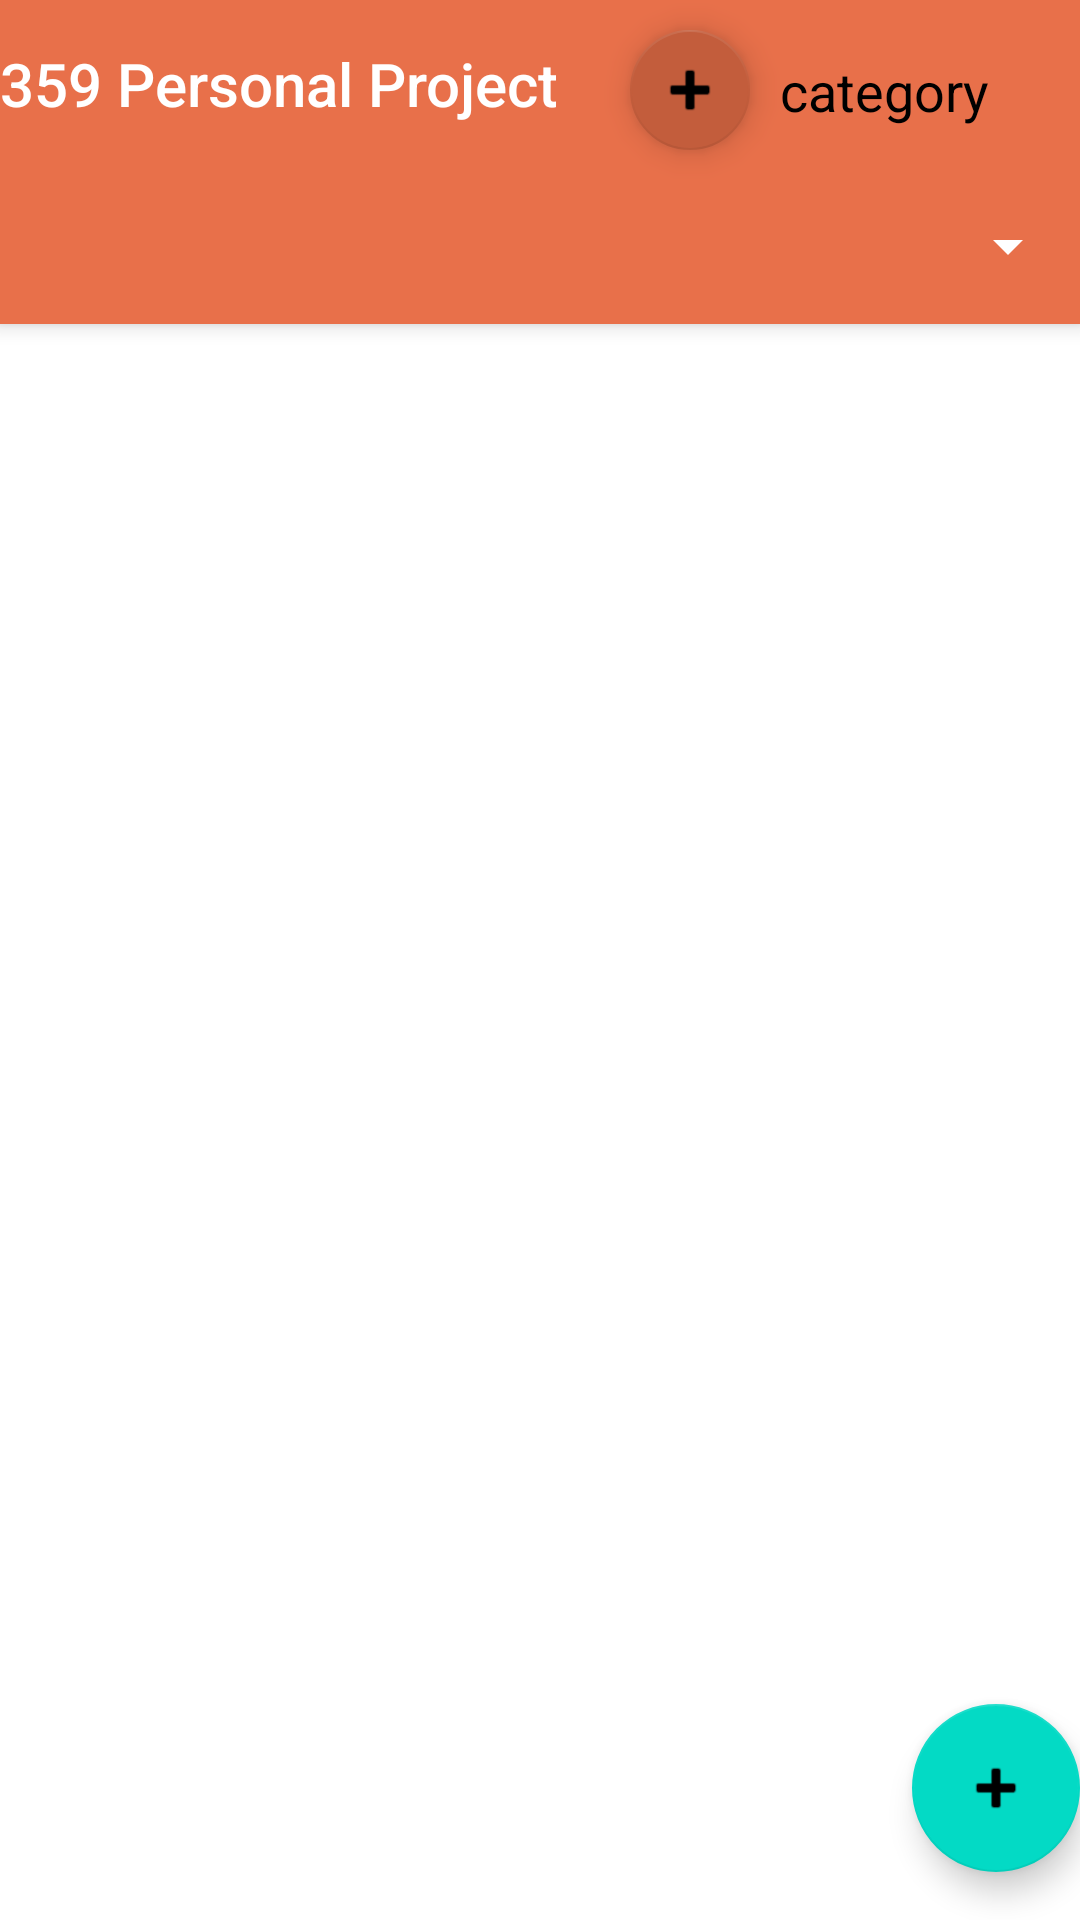

Icons on this 1080w x 1920h Android screen, each with the point to tap as point (x, y):
add: point (690, 90), point (996, 1788)
